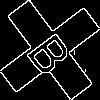B: (25, 25, 81, 79)
